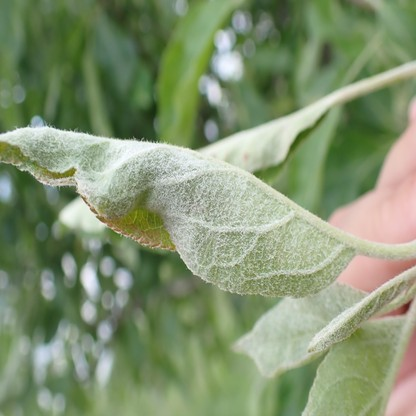powder: (0, 107, 352, 300), (232, 284, 369, 379), (301, 316, 405, 415), (308, 268, 416, 355)
